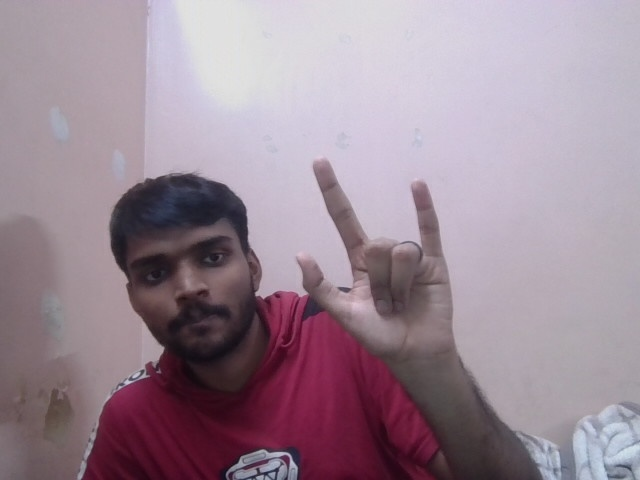I Love You: (301, 154, 462, 350)
